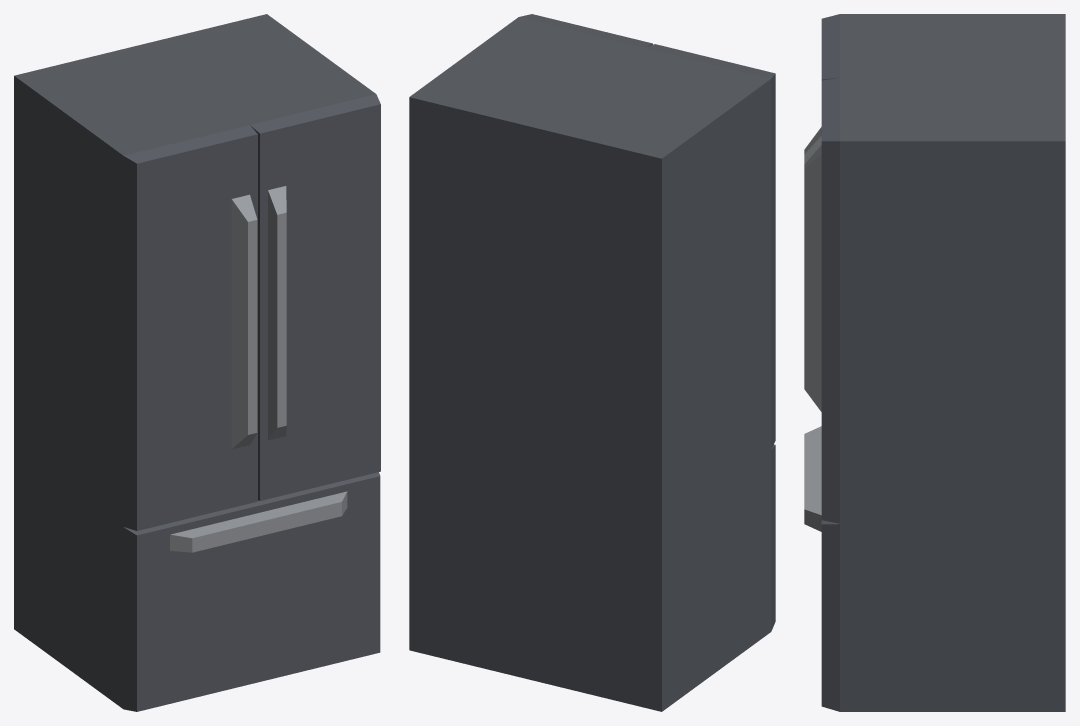
Rendered from SM_Prop_Kitchen_Fridge_02.fbx.
The picture shows the model from 3 angles, left to right: view 1: azimuth 30°, elevation 25°; view 2: azimuth 150°, elevation 25°; view 3: azimuth 270°, elevation 25°; orthographic projection. The views are drawn at different scales.
Parts seen in each view (by area): view 1: SM_Prop_Kitchen_Fridge_02; view 2: SM_Prop_Kitchen_Fridge_02; view 3: SM_Prop_Kitchen_Fridge_02.
Part boxes in pixels (x1,y1,x2,y2): SM_Prop_Kitchen_Fridge_02: (14,14,380,711); SM_Prop_Kitchen_Fridge_02: (409,14,775,711); SM_Prop_Kitchen_Fridge_02: (804,14,1065,711).
Bounding box in the file's own units: 100 × 209 × 86.9.
